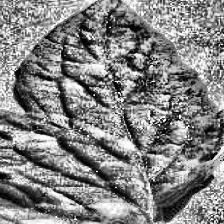leaf mold: (0, 0, 224, 224)
